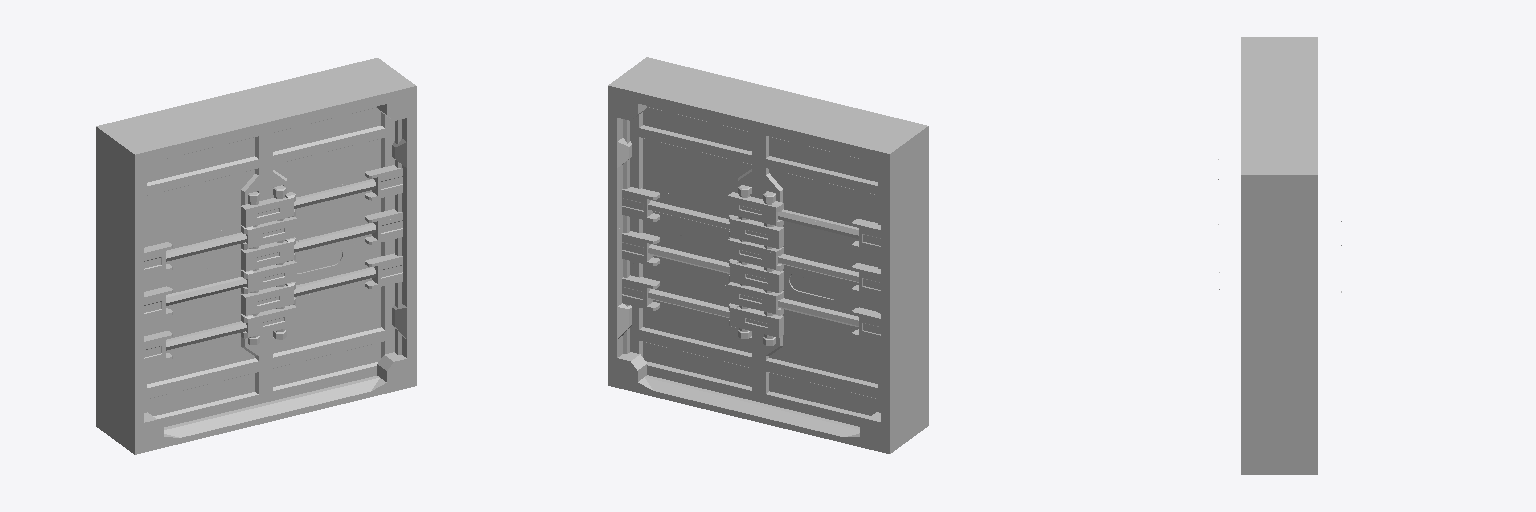
The model's file is Door.obj.
3 views of the same model, side by side, from view 1: azimuth 30°, elevation 25°; view 2: azimuth 150°, elevation 25°; view 3: azimuth 270°, elevation 25° (orthographic).
Parts seen in each view (by area): view 1: Bunker_Door; view 2: Bunker_Door; view 3: Bunker_Door.
Part boxes in pixels (left/top/right/bottom): Bunker_Door: left=96, top=58, right=416, bottom=454; Bunker_Door: left=608, top=57, right=928, bottom=453; Bunker_Door: left=1241, top=37, right=1317, bottom=474.
Size of the model in its own units: 7.95 by 8.09 by 3.01.